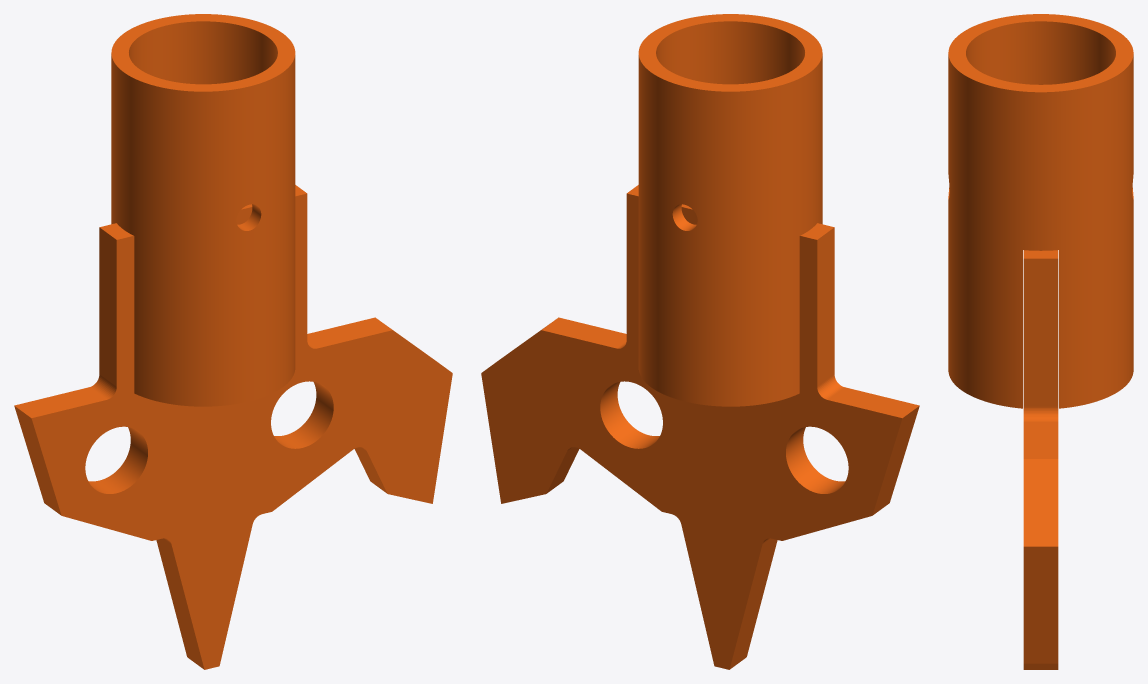
Rendered from 05_pie_raptor.glb.
3 views of the same model, side by side, from view 1: azimuth 30°, elevation 25°; view 2: azimuth 150°, elevation 25°; view 3: azimuth 270°, elevation 25° (orthographic).
Visible parts, largest first — view 1: 05_pie_raptor; view 2: 05_pie_raptor; view 3: 05_pie_raptor.
Part boxes in pixels (<box>): 05_pie_raptor: <box>14,14,452,669</box>; 05_pie_raptor: <box>481,14,919,669</box>; 05_pie_raptor: <box>948,14,1133,669</box>.
Size of the model in its own units: 168 by 232 by 63.5.
